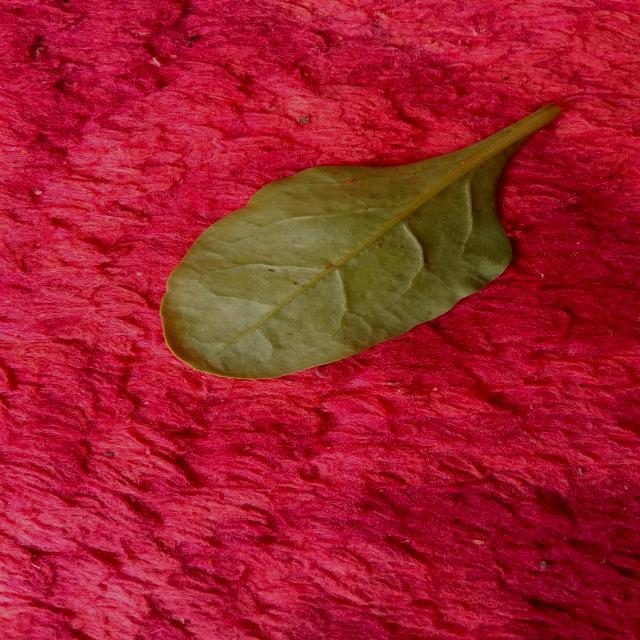leaf: (158, 100, 562, 380)
